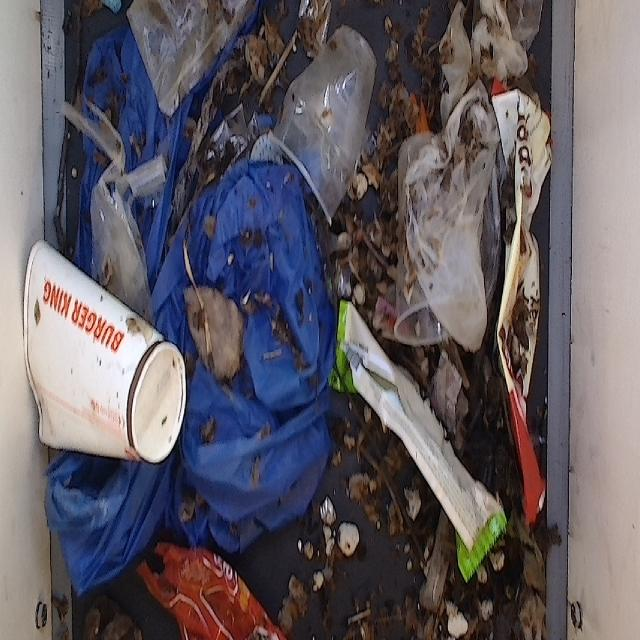food_packaging: (17, 228, 189, 482)
food_wrapping: (334, 282, 512, 596), (486, 74, 552, 538), (136, 532, 280, 640)
plastic_cups: (398, 0, 551, 149), (266, 19, 374, 228), (388, 126, 478, 363), (282, 0, 338, 65)
plastic_films: (56, 66, 166, 336), (123, 0, 263, 126)
